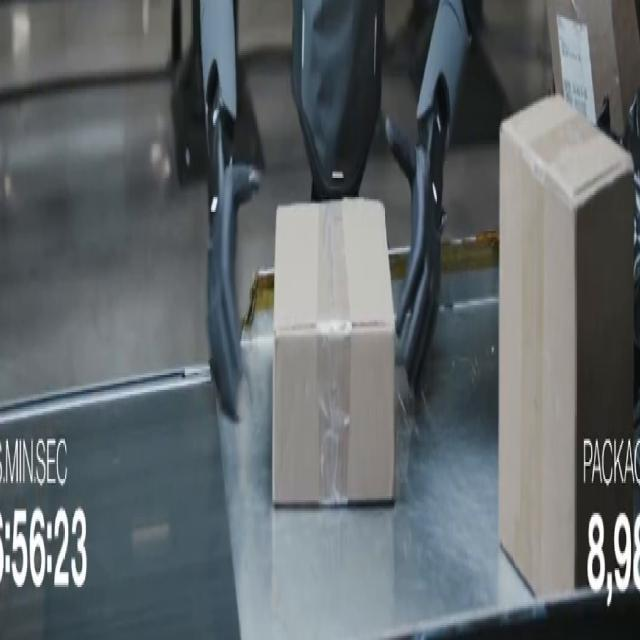package: (499, 96, 633, 597), (273, 200, 394, 506), (547, 0, 639, 137)
